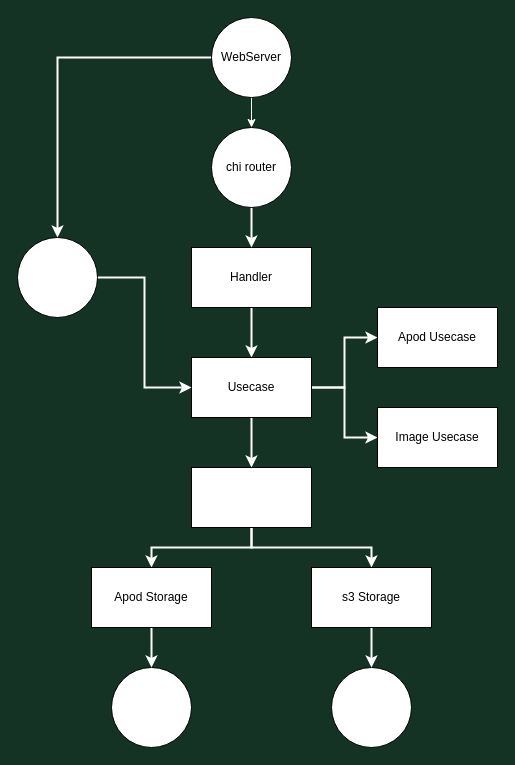
Image size: 515x765. Some labels were removed from this diagram. The shapes that lost their labels are listed below. From the top down, each one's centre as x and y in pixels, then its label:
At [57,277]: "Worker".
At [251,497]: "Gateway".
At [151,707]: "Postgres Client".
At [371,707]: "Minio Client".
